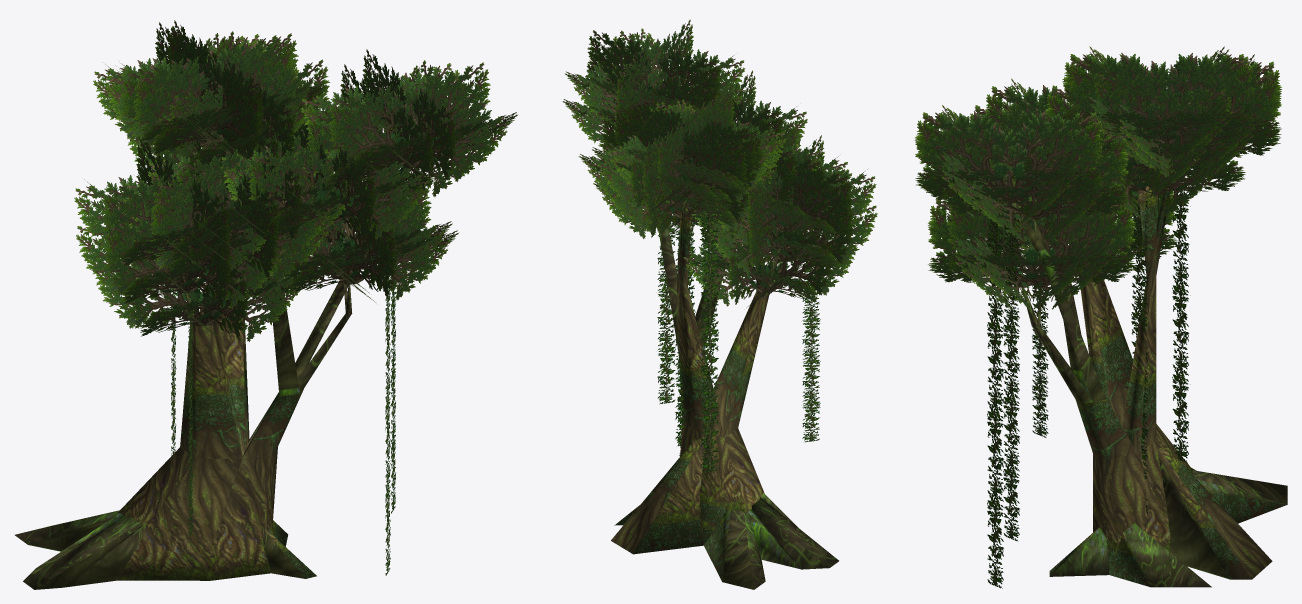
The model's file is tree1.dae.
The picture shows the model from 3 angles, left to right: view 1: azimuth 30°, elevation 25°; view 2: azimuth 150°, elevation 25°; view 3: azimuth 270°, elevation 25°; orthographic projection. The views are drawn at different scales.
Visible parts, largest first — view 1: jungle_tree (×23), wine (×3); view 2: jungle_tree (×23), wine (×4); view 3: jungle_tree (×27), wine (×5).
Part boxes in pixels (<box>): jungle_tree (×23): <box>15,20,517,589</box>; wine (×3): <box>188,176,395,575</box>; jungle_tree (×23): <box>562,19,877,589</box>; wine (×4): <box>657,145,820,473</box>; jungle_tree (×27): <box>914,46,1287,587</box>; wine (×5): <box>987,62,1190,588</box>.
Bounding box in the file's own units: 890 × 750 × 1104.
4 materials, 4 textured.
